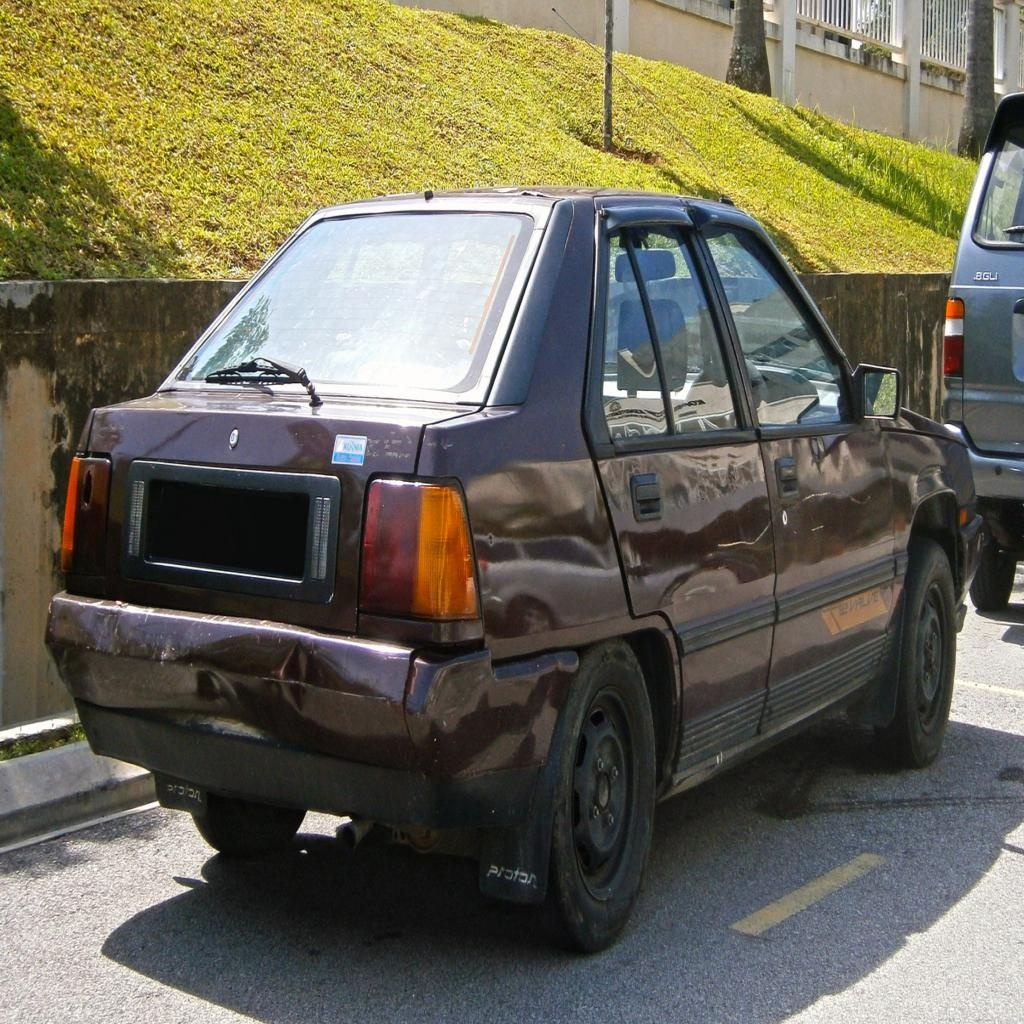Dent: (168, 630, 385, 743)
Scratch: (703, 489, 886, 557)
